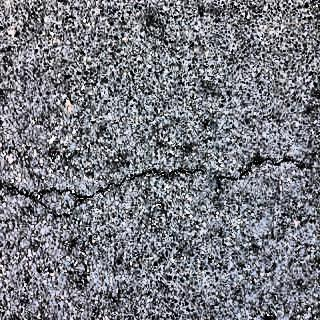crack: (8, 149, 314, 214)
